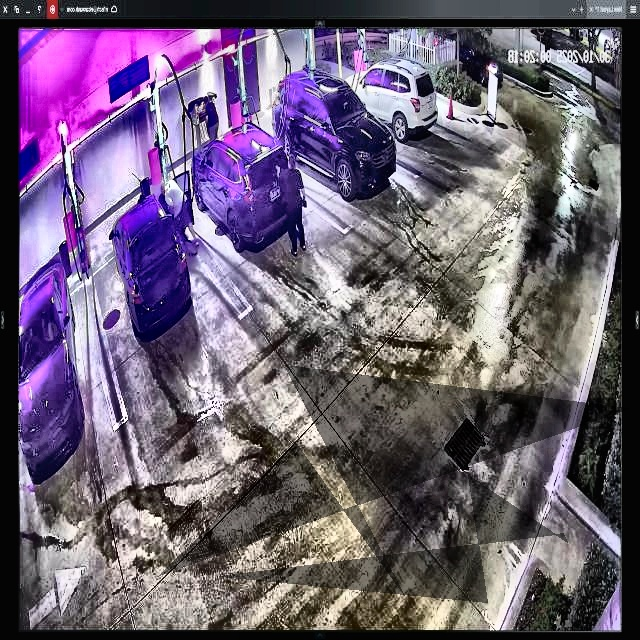Car: (272, 68, 396, 195), (112, 172, 193, 338), (192, 136, 297, 254)
